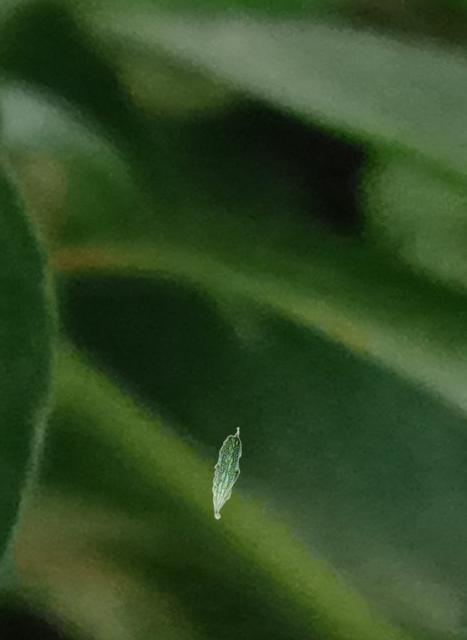ampalaya: (210, 426, 242, 521)
